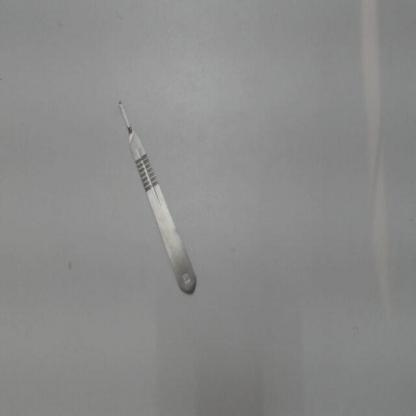No.3 BP Handle: (104, 77, 210, 318)
